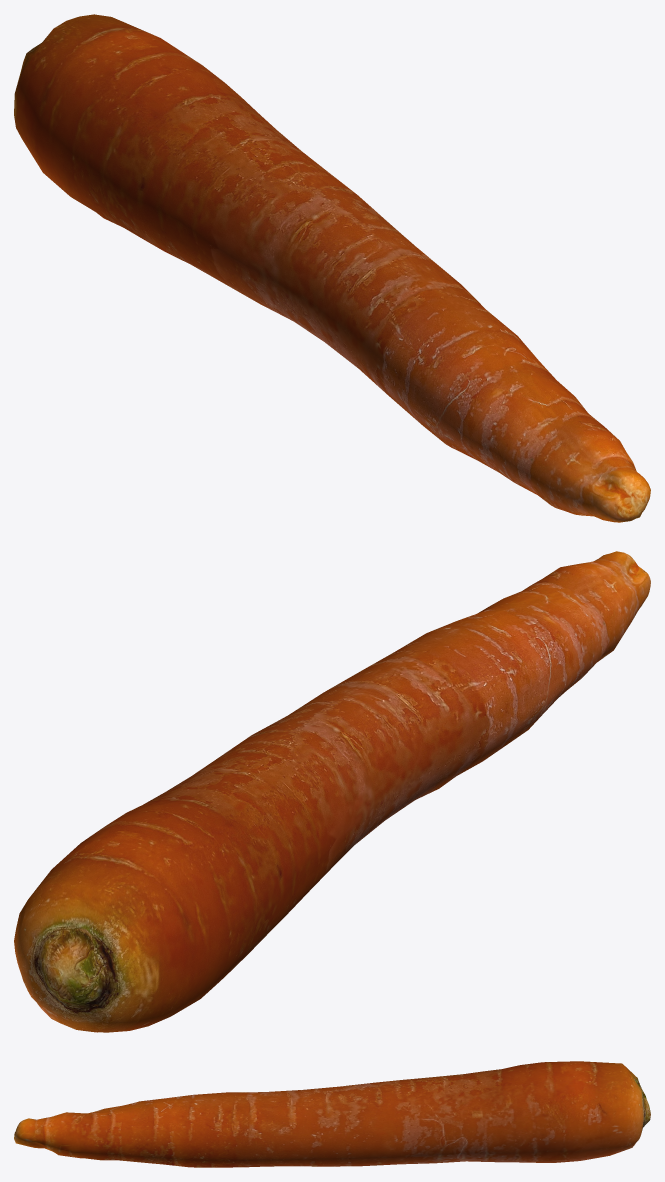
The model's file is carrot.glb.
3 views of the same model, one above another, from view 1: azimuth 30°, elevation 25°; view 2: azimuth 150°, elevation 25°; view 3: azimuth 270°, elevation 25° (orthographic). The views are drawn at different scales.
Parts seen in each view (by area): view 1: Carrot LP; view 2: Carrot LP; view 3: Carrot LP.
Part boxes in pixels (left/top/right/bottom): Carrot LP: left=14, top=14, right=650, bottom=522; Carrot LP: left=14, top=551, right=650, bottom=1032; Carrot LP: left=14, top=1061, right=650, bottom=1167.
Size of the model in its own units: 3 by 2.9 by 17.98.
Materials: 1 (1 with a texture image).
